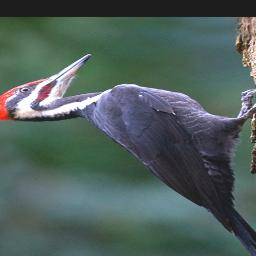Woodpecker: (0, 54, 256, 256)
